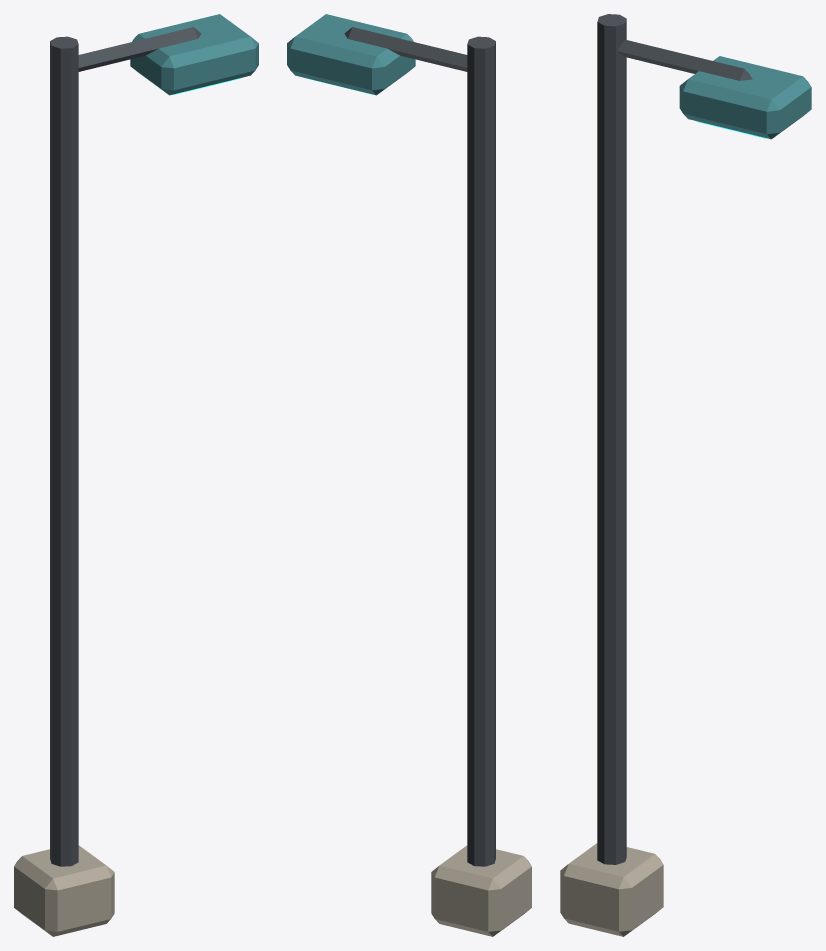
The model's file is dj_street_lamp.glb.
3 views of the same model, side by side, from view 1: azimuth 30°, elevation 25°; view 2: azimuth 150°, elevation 25°; view 3: azimuth 330°, elevation 25° (orthographic). The views are drawn at different scales.
Visible parts, largest first — view 1: Pole, Foot, Lamp_Housing, Arm; view 2: Pole, Foot, Lamp_Housing, Arm; view 3: Pole, Lamp_Housing, Foot, Arm.
Boxes of the visible parts, x1=… form: Pole: x1=50, y1=36, x2=78, y2=866; Foot: x1=14, y1=845, x2=114, y2=936; Lamp_Housing: x1=130, y1=14, x2=258, y2=95; Arm: x1=78, y1=27, x2=201, y2=71; Pole: x1=467, y1=36, x2=495, y2=866; Foot: x1=431, y1=845, x2=531, y2=936; Lamp_Housing: x1=287, y1=14, x2=415, y2=95; Arm: x1=344, y1=27, x2=467, y2=71; Pole: x1=597, y1=14, x2=626, y2=864; Lamp_Housing: x1=679, y1=56, x2=811, y2=139; Foot: x1=560, y1=843, x2=663, y2=936; Arm: x1=617, y1=39, x2=752, y2=80.
Bounding box in the file's own units: 0.92 × 3.6 × 0.3.
